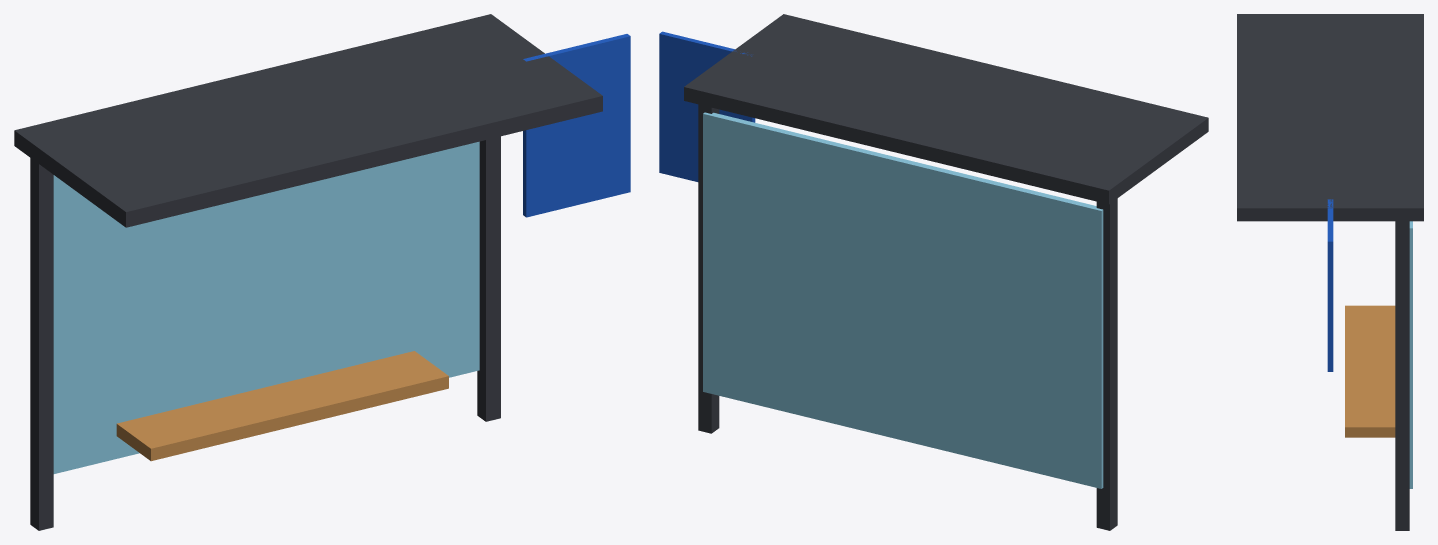
The model's file is bus_stop_shelter.glb.
The picture shows the model from 3 angles, left to right: view 1: azimuth 30°, elevation 25°; view 2: azimuth 150°, elevation 25°; view 3: azimuth 270°, elevation 25°; orthographic projection. The views are drawn at different scales.
Parts seen in each view (by area): view 1: bus_stop_shelter; view 2: bus_stop_shelter; view 3: bus_stop_shelter.
Part boxes in pixels (box(x1,y1,x2,y2)): bus_stop_shelter: box(14, 14, 630, 530); bus_stop_shelter: box(659, 14, 1208, 530); bus_stop_shelter: box(1237, 14, 1423, 530).
Size of the model in its own units: 3.75 by 2.5 by 1.3.
